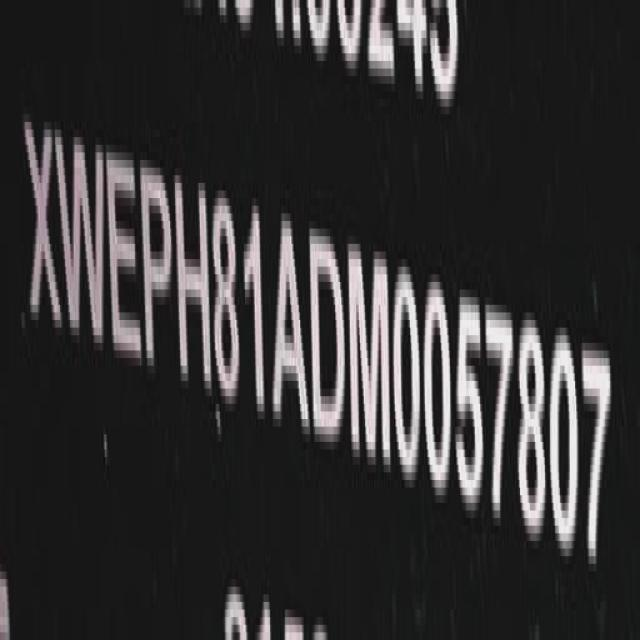0: (548, 326, 578, 562), (395, 254, 424, 486), (424, 278, 453, 502)
1: (246, 201, 268, 426)
5: (457, 286, 485, 516)
7: (586, 334, 616, 578), (488, 292, 514, 531)
8: (518, 309, 548, 544), (213, 181, 241, 406)
A: (274, 210, 310, 442)
D: (310, 221, 348, 457)
E: (109, 145, 142, 376)
H: (179, 165, 211, 398)
M: (348, 244, 392, 476)
P: (141, 153, 173, 385)
W: (60, 122, 108, 360)
X: (25, 103, 60, 348)
